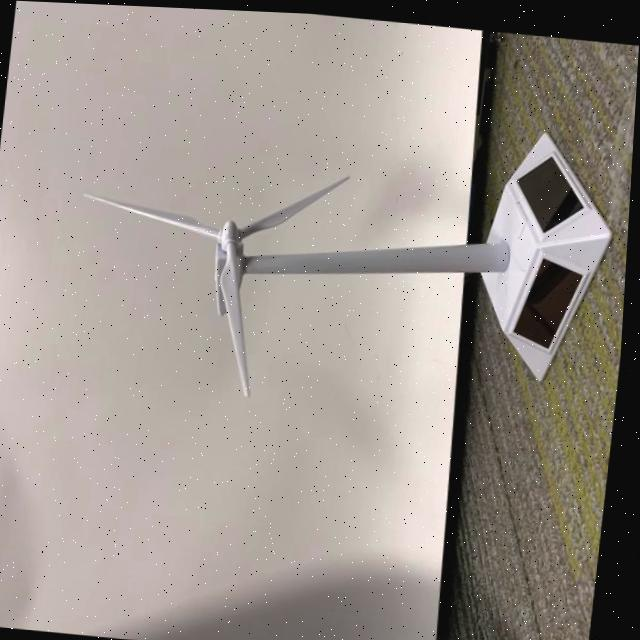solid-blade: (241, 172, 350, 236), (87, 192, 222, 237), (223, 240, 253, 393)
